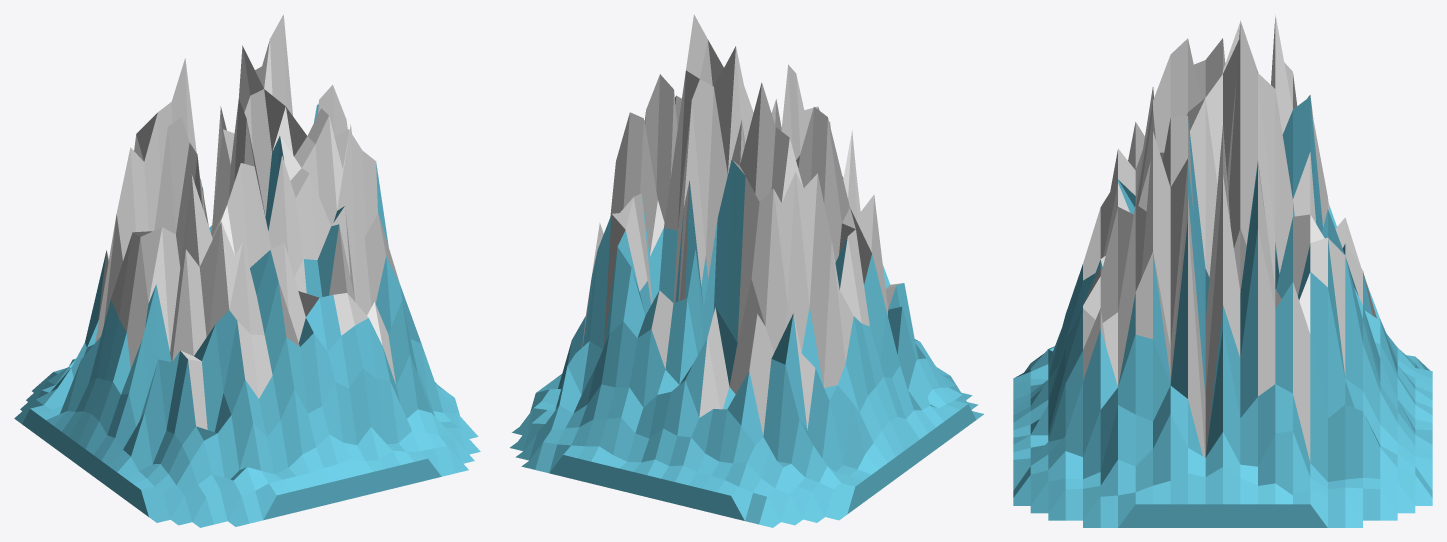
Rendered from IceMountain5.fbx.
3 views of the same model, side by side, from view 1: azimuth 30°, elevation 25°; view 2: azimuth 150°, elevation 25°; view 3: azimuth 270°, elevation 25° (orthographic). The views are drawn at different scales.
Visible parts, largest first — view 1: Landscape.002; view 2: Landscape.002; view 3: Landscape.002.
Part boxes in pixels (x1=…): Landscape.002: x1=14, y1=14, x2=480, y2=527; Landscape.002: x1=510, y1=14, x2=983, y2=527; Landscape.002: x1=1013, y1=14, x2=1432, y2=527.
Bounding box in the file's own units: 1600 × 1858 × 1600.
